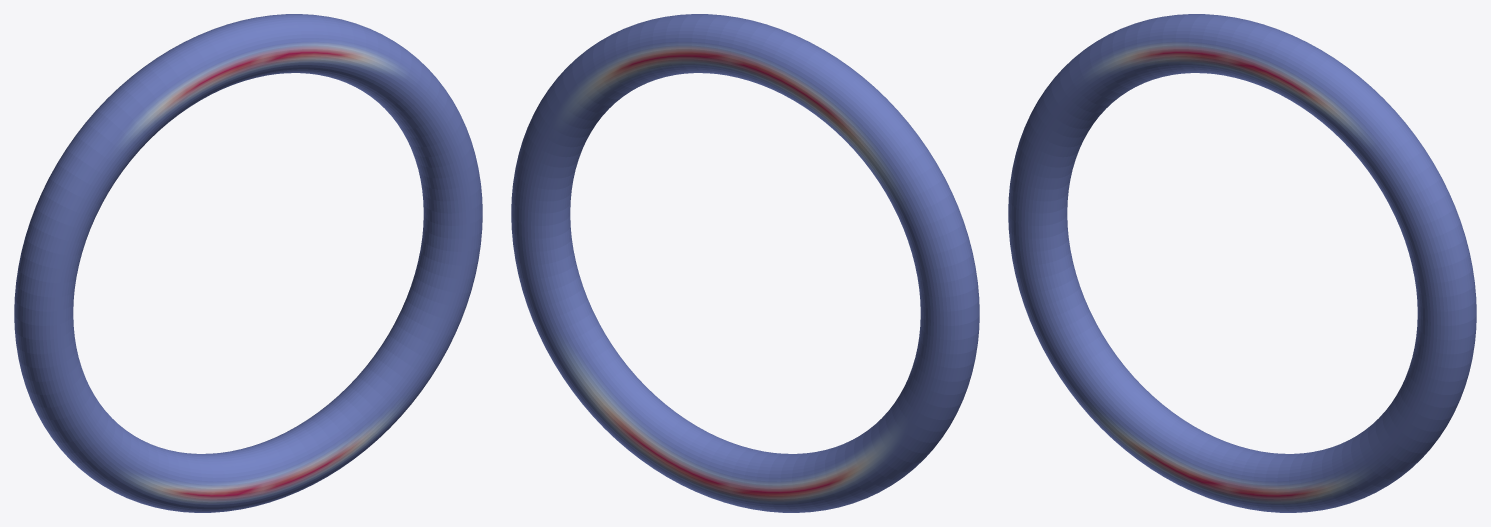
3 renders of one model, left to right at view 1: azimuth 30°, elevation 25°; view 2: azimuth 150°, elevation 25°; view 3: azimuth 330°, elevation 25°, orthographic.
Parts seen in each view (by area): view 1: world; view 2: world; view 3: world.
Boxes of the visible parts, <box> form: world: <box>14,14,482,512</box>; world: <box>511,14,979,512</box>; world: <box>1008,14,1476,512</box>.
Size of the model in its own units: 18 by 18 by 2.
